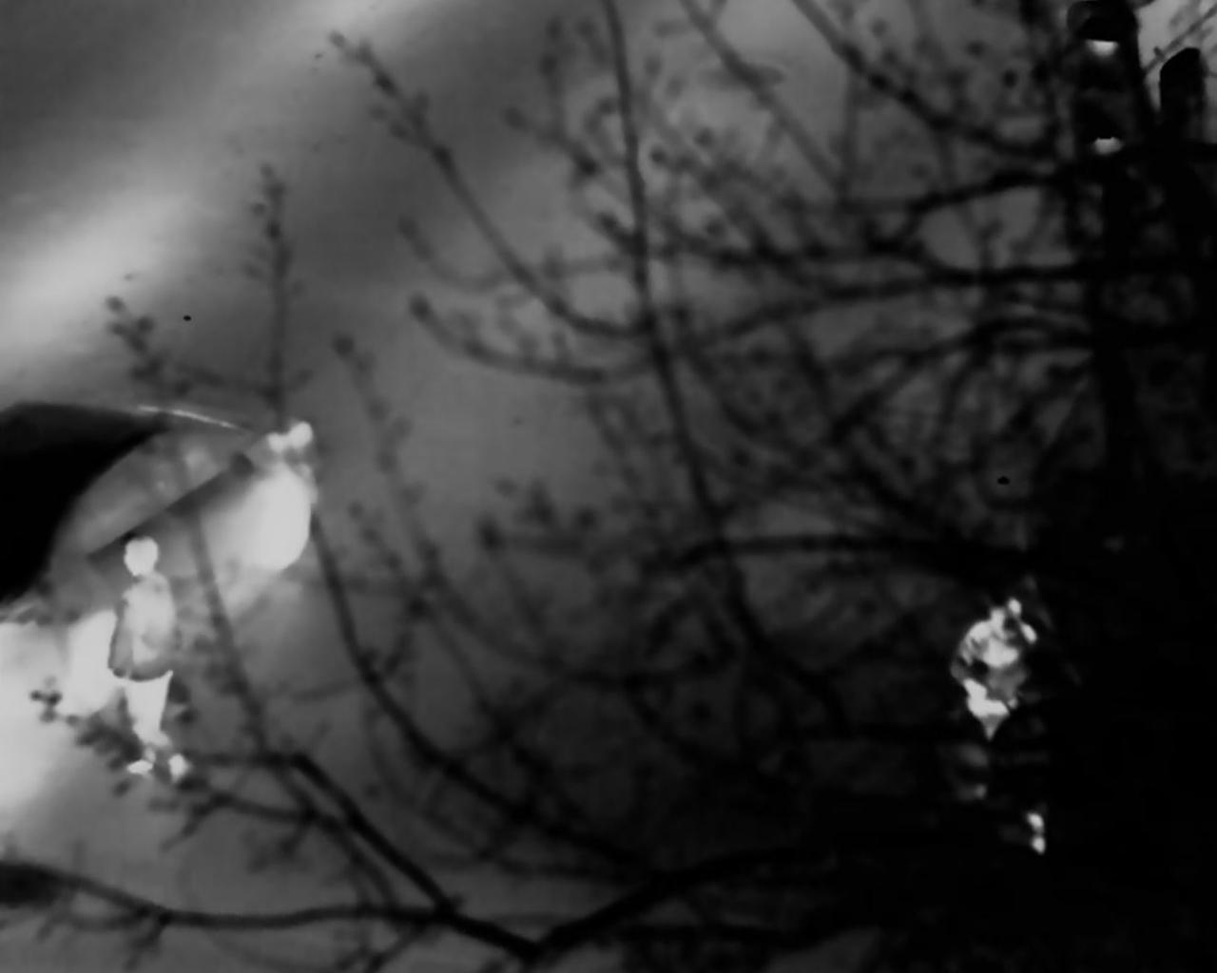person: (965, 586, 1060, 851), (110, 525, 188, 776)
